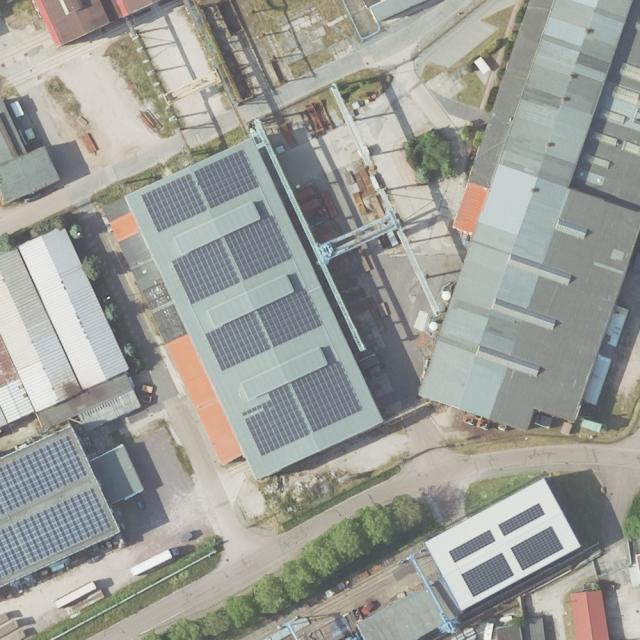PV: (241, 362, 361, 456), (170, 216, 293, 304), (0, 488, 111, 579), (141, 149, 260, 232), (205, 288, 323, 370), (0, 435, 87, 516), (461, 552, 515, 597), (510, 526, 564, 571), (498, 502, 545, 536), (448, 529, 496, 562)
